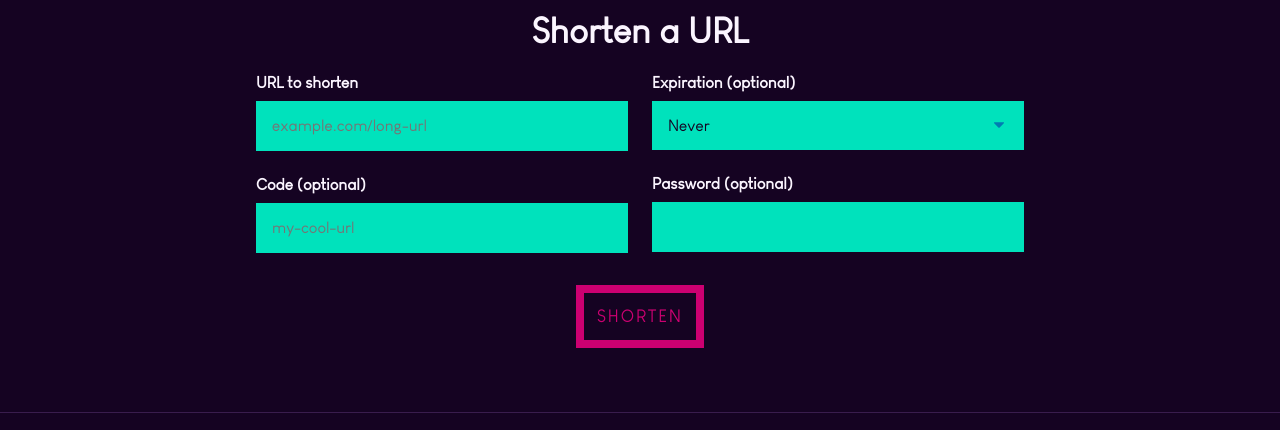
it: CreateUrl Component › enables submit button once form is valid
This screenshot has width=1280, height=430.
In the field labelled "URL to shorten": [442, 126] box [256,101,628,151], type "example.com"
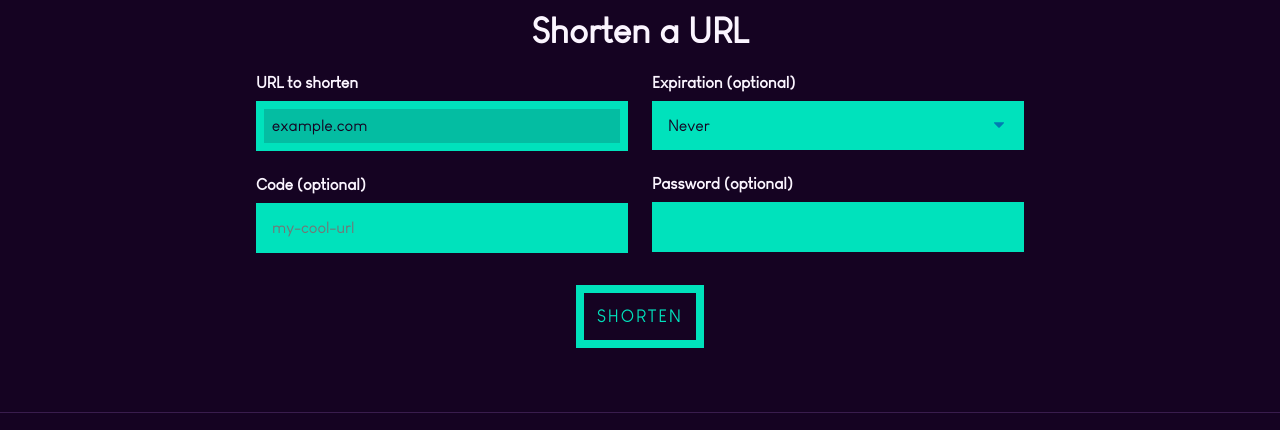
Check: the button "Shorten" is enabled, box [576,285,704,348]
